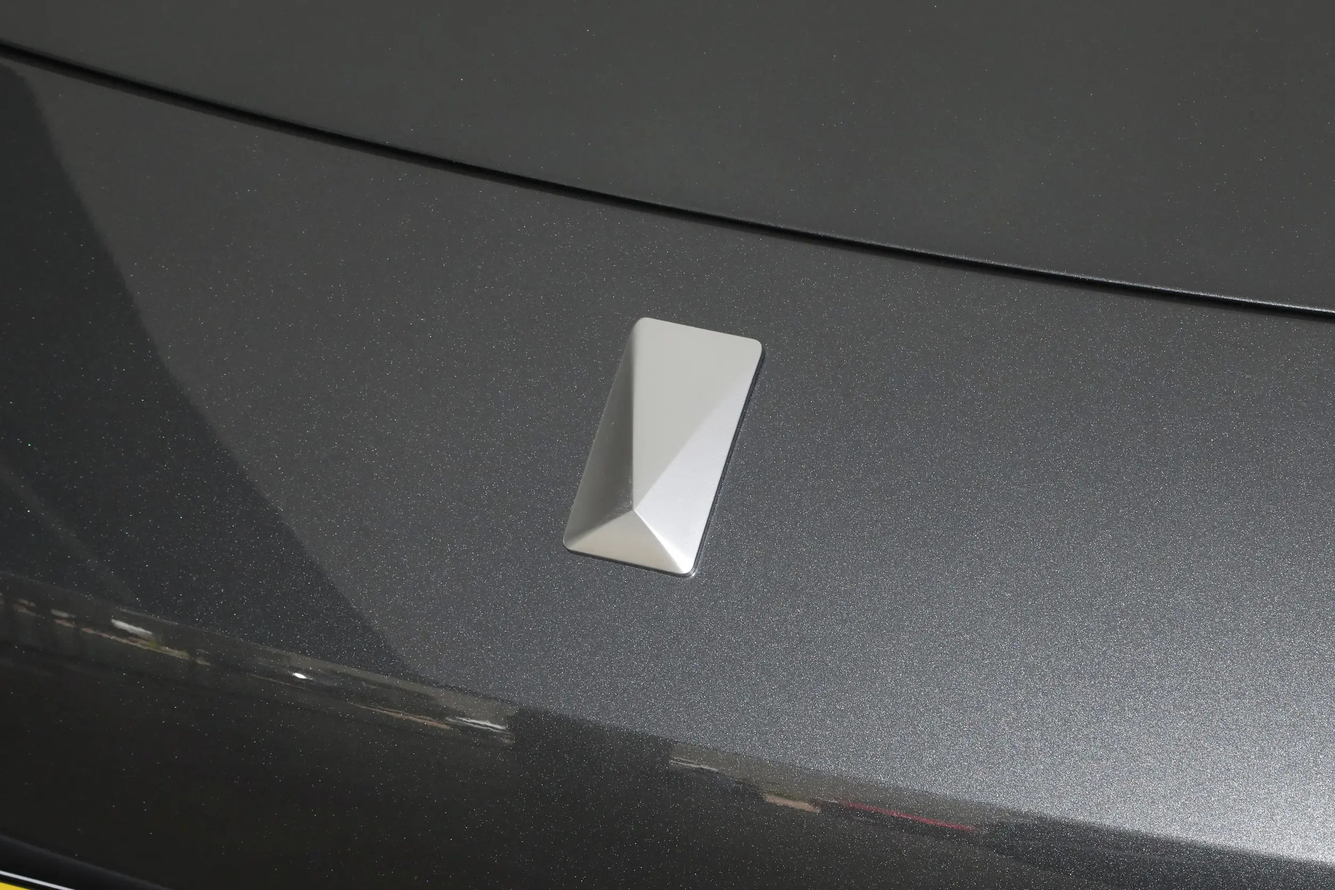AVATR: (563, 317, 762, 576)
